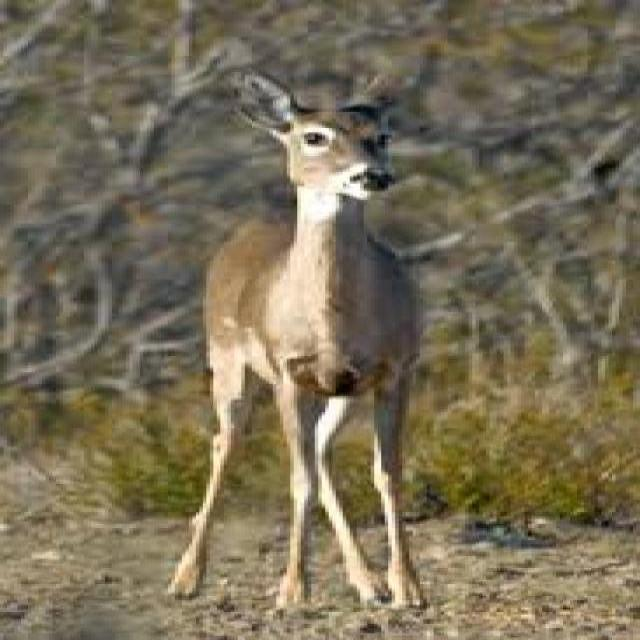deer: (189, 70, 434, 603)
